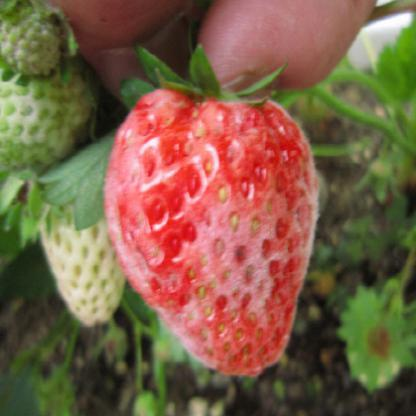Strawberry_Powdery_Mildew_Fruit: (102, 88, 320, 375)
